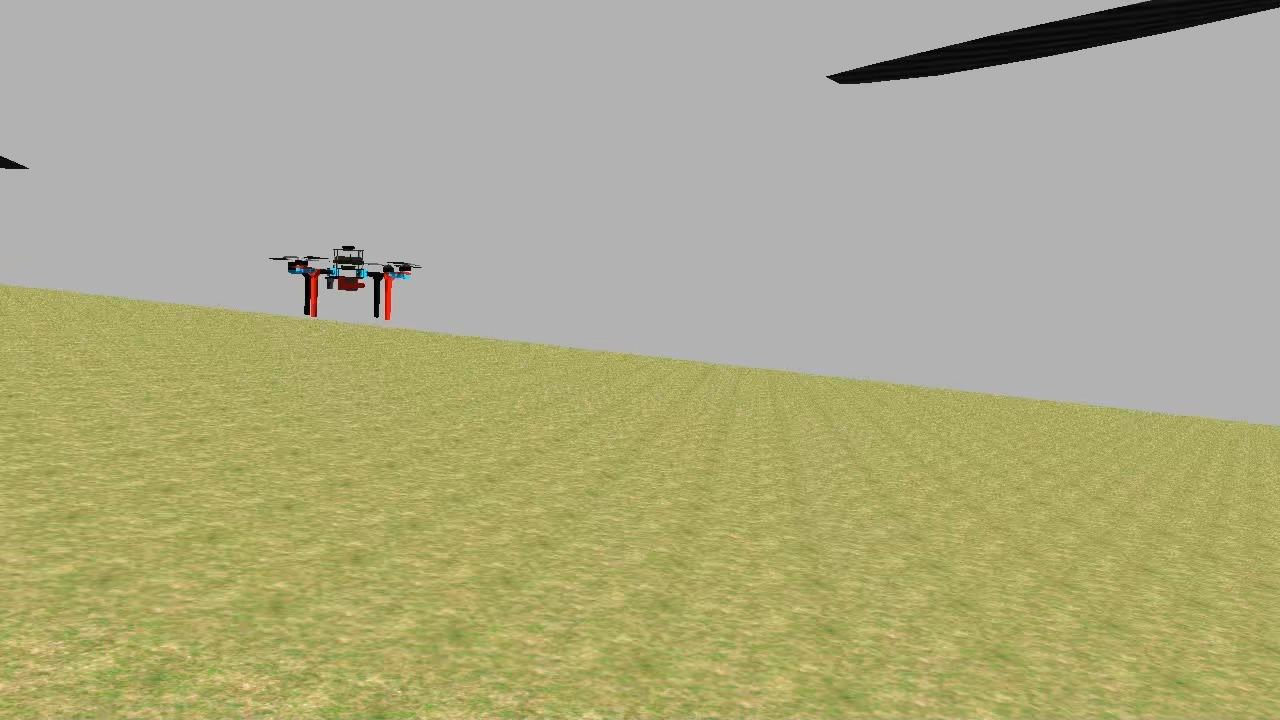UAV: (282, 240, 418, 324)
